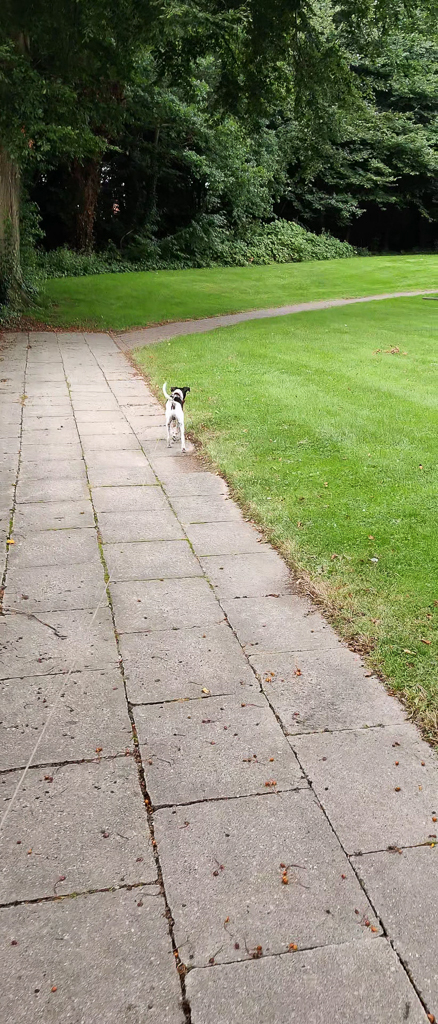Dog: (153, 375, 200, 459)
